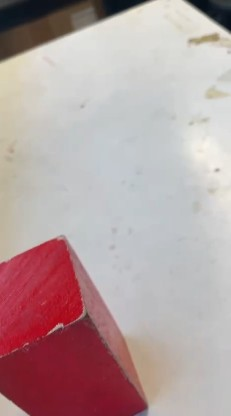red: (0, 237, 152, 414)
